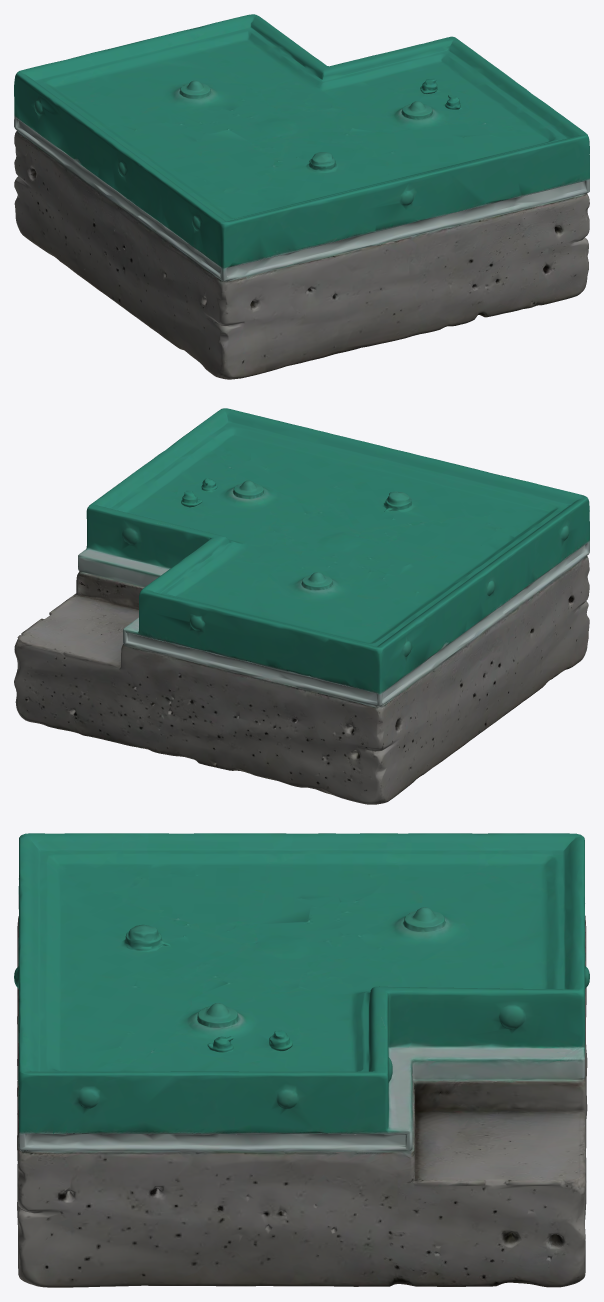
File: epoxy-section.glb
3 views of the same model, one above another, from view 1: azimuth 30°, elevation 25°; view 2: azimuth 150°, elevation 25°; view 3: azimuth 270°, elevation 25° (orthographic). The views are drawn at different scales.
Parts seen in each view (by area): view 1: tripo_node_42f391d2-fd9e-4546-bf9e-fa9a024b55d9; view 2: tripo_node_42f391d2-fd9e-4546-bf9e-fa9a024b55d9; view 3: tripo_node_42f391d2-fd9e-4546-bf9e-fa9a024b55d9.
Boxes of the visible parts, x1=… form: tripo_node_42f391d2-fd9e-4546-bf9e-fa9a024b55d9: x1=14, y1=14, x2=589, y2=379; tripo_node_42f391d2-fd9e-4546-bf9e-fa9a024b55d9: x1=14, y1=408, x2=589, y2=804; tripo_node_42f391d2-fd9e-4546-bf9e-fa9a024b55d9: x1=14, y1=833, x2=589, y2=1287.
Size of the model in its own units: 1 by 0.4186 by 0.9895.
1 material, 1 textured.
